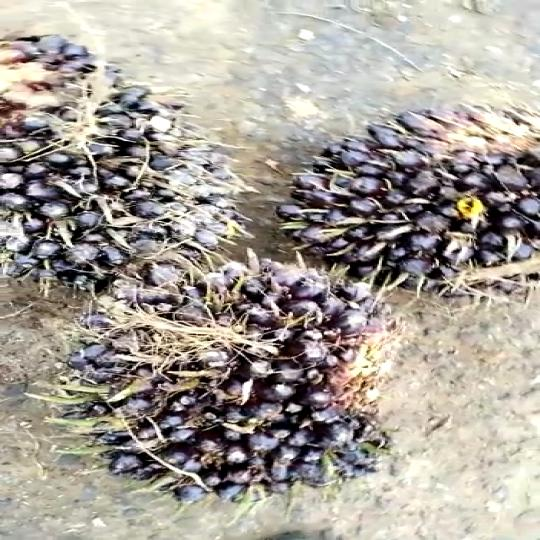mentah: (70, 266, 428, 505), (0, 24, 244, 286), (283, 100, 540, 300)
